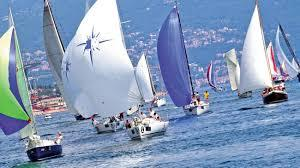Ship: (73, 1, 170, 140), (1, 11, 63, 161), (160, 8, 210, 116), (239, 3, 289, 104)
